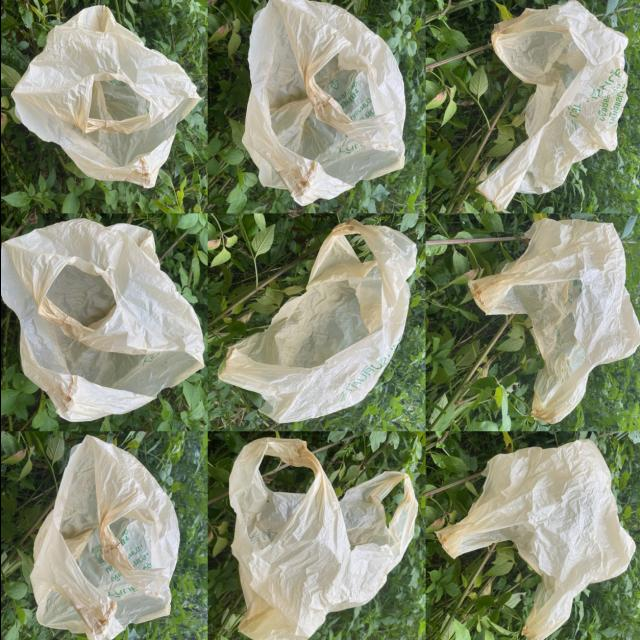plastik: (0, 219, 203, 422), (219, 219, 415, 423), (436, 440, 635, 640), (229, 437, 417, 640), (468, 219, 640, 423), (10, 6, 199, 188), (244, 0, 405, 205), (477, 1, 627, 210), (30, 436, 179, 640)
